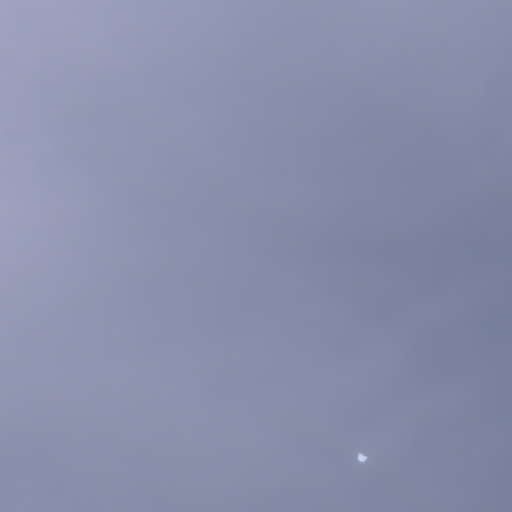Iceberg: (358, 453, 366, 460)
